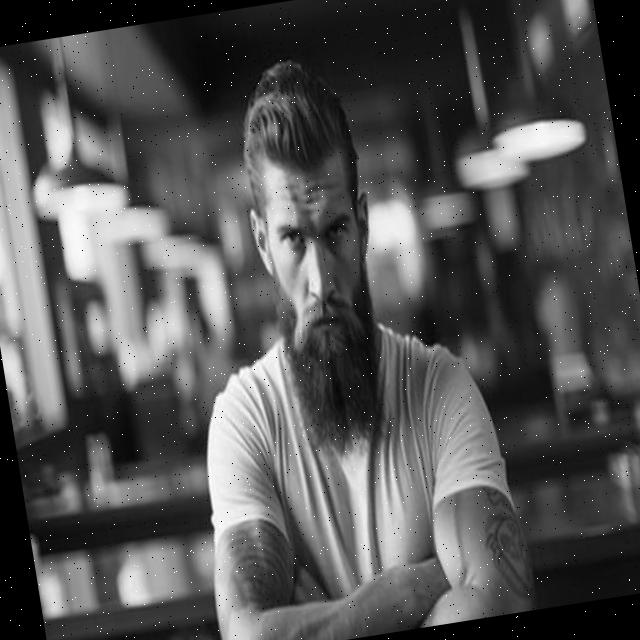Angry: (258, 157, 390, 446)
